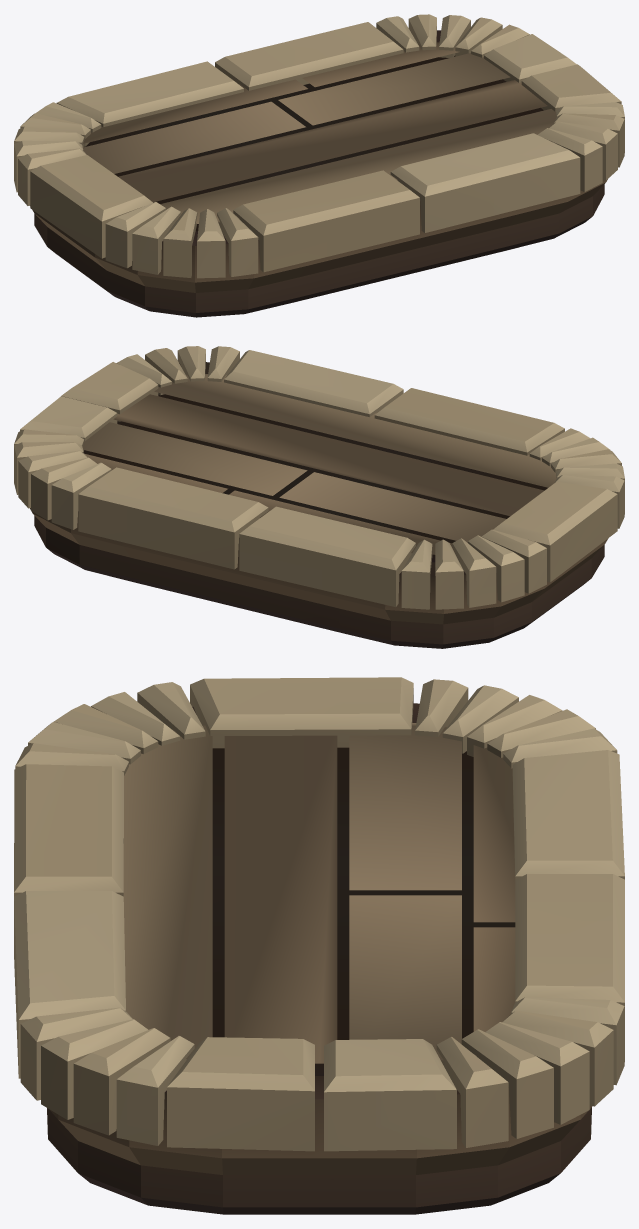
The model's file is radeau_S.glb.
3 renders of one model, top to bottom at view 1: azimuth 30°, elevation 25°; view 2: azimuth 150°, elevation 25°; view 3: azimuth 270°, elevation 25°, orthographic. The views are drawn at different scales.
Visible parts, largest first — view 1: radeau_S; view 2: radeau_S; view 3: radeau_S.
Part boxes in pixels (x1=…): radeau_S: x1=14, y1=14, x2=624, y2=317; radeau_S: x1=14, y1=346, x2=624, y2=648; radeau_S: x1=14, y1=677, x2=624, y2=1214.
Bounding box in the file's own units: 3.26 × 0.7839 × 2.06.
